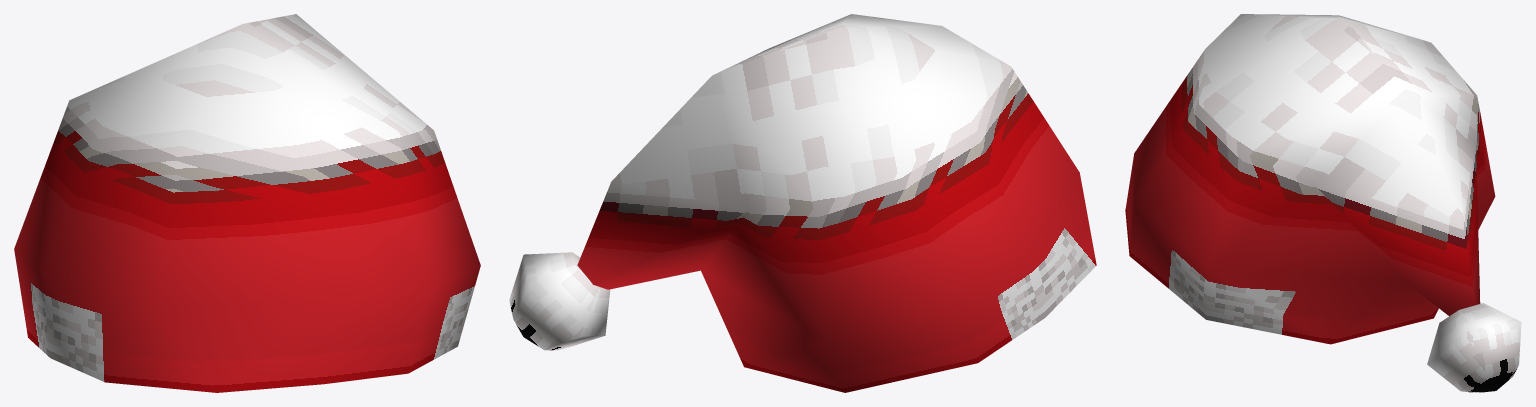
3 renders of one model, left to right at view 1: azimuth 30°, elevation 25°; view 2: azimuth 150°, elevation 25°; view 3: azimuth 270°, elevation 25°, orthographic. The views are drawn at different scales.
Parts seen in each view (by area): view 1: code_head18; view 2: code_head18; view 3: code_head18.
Boxes of the visible parts, x1=… form: code_head18: x1=14, y1=14, x2=480, y2=392; code_head18: x1=509, y1=14, x2=1096, y2=392; code_head18: x1=1125, y1=14, x2=1521, y2=392.
Size of the model in its own units: 0.7979 by 0.5461 by 0.6897.
Materials: 1 (1 with a texture image).
